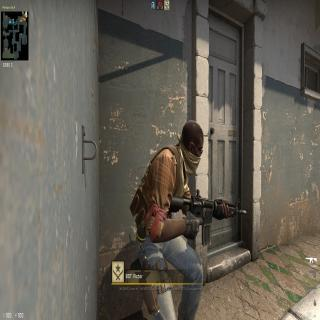T-Head: (177, 114, 204, 181)
